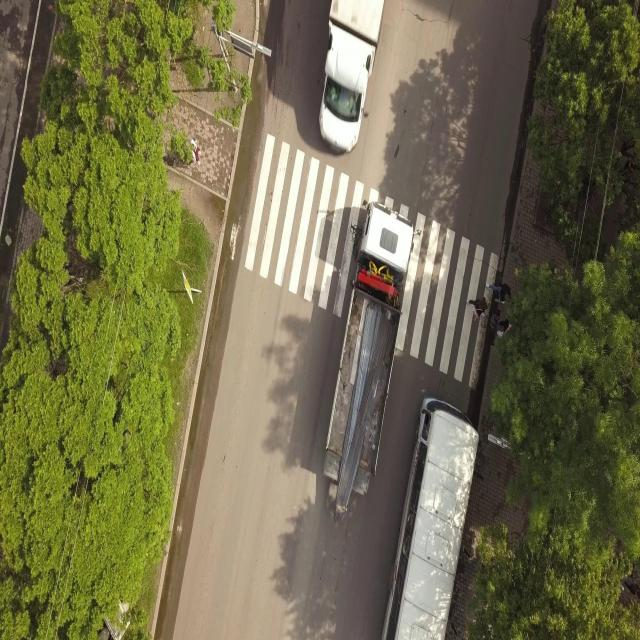Bus: (376, 396, 480, 640)
Truck: (319, 193, 425, 508), (313, 0, 383, 150)
